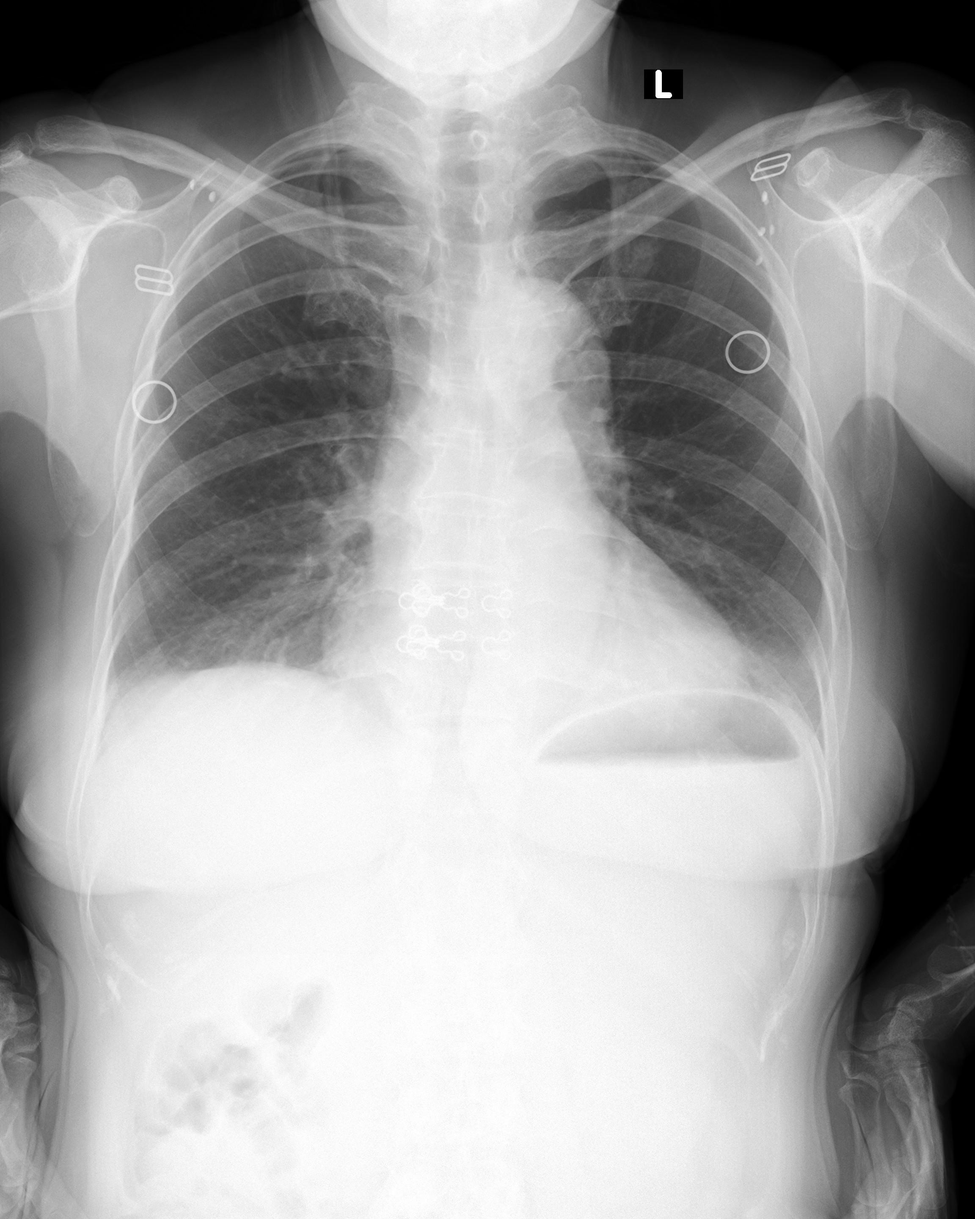Aortic enlargement: (482, 282, 612, 474)
Cardiomegaly: (319, 565, 744, 693)
